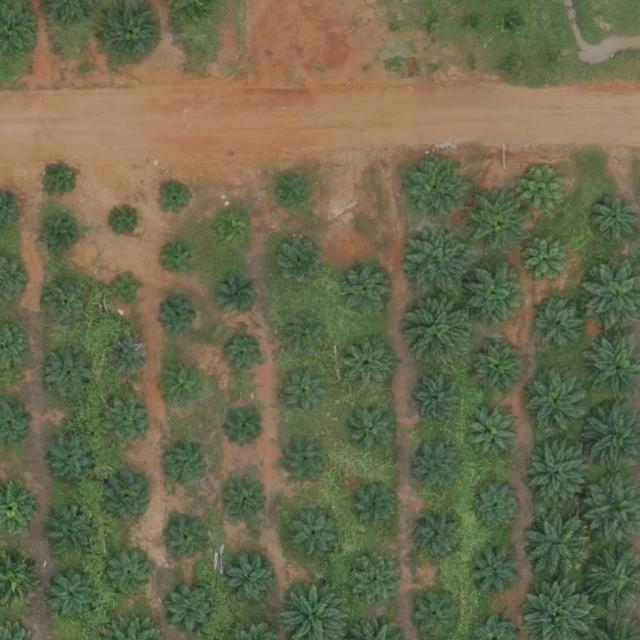Healthy: (405, 229, 475, 300), (409, 296, 479, 367), (523, 511, 593, 582), (405, 158, 468, 221), (527, 369, 590, 432), (529, 440, 592, 503), (467, 190, 529, 253), (467, 265, 529, 327), (45, 433, 100, 488), (290, 508, 345, 563), (350, 553, 405, 608), (163, 581, 218, 636), (45, 508, 99, 563), (222, 552, 276, 607), (46, 569, 100, 624), (416, 446, 463, 494), (475, 345, 522, 393), (472, 410, 519, 458), (539, 303, 586, 351), (342, 267, 389, 314), (417, 375, 464, 422), (413, 593, 460, 640), (107, 554, 154, 601)
Small: (43, 346, 98, 401), (102, 471, 157, 526), (520, 164, 574, 219), (468, 546, 522, 601), (472, 480, 526, 535), (415, 508, 469, 563), (274, 241, 321, 289), (44, 282, 91, 329), (523, 237, 570, 284), (284, 310, 331, 357), (166, 517, 213, 564), (158, 445, 205, 492), (284, 439, 331, 486), (349, 484, 396, 531), (351, 404, 398, 451), (284, 367, 331, 414), (346, 342, 393, 389), (102, 399, 149, 446), (106, 336, 153, 383), (214, 276, 261, 323), (222, 332, 269, 379), (221, 404, 268, 451), (223, 481, 270, 528), (164, 365, 204, 405), (212, 212, 252, 252), (40, 160, 80, 199), (41, 215, 80, 255), (156, 179, 195, 219), (270, 173, 309, 213), (159, 242, 198, 281), (159, 296, 198, 335), (113, 207, 144, 239), (112, 273, 143, 305)
